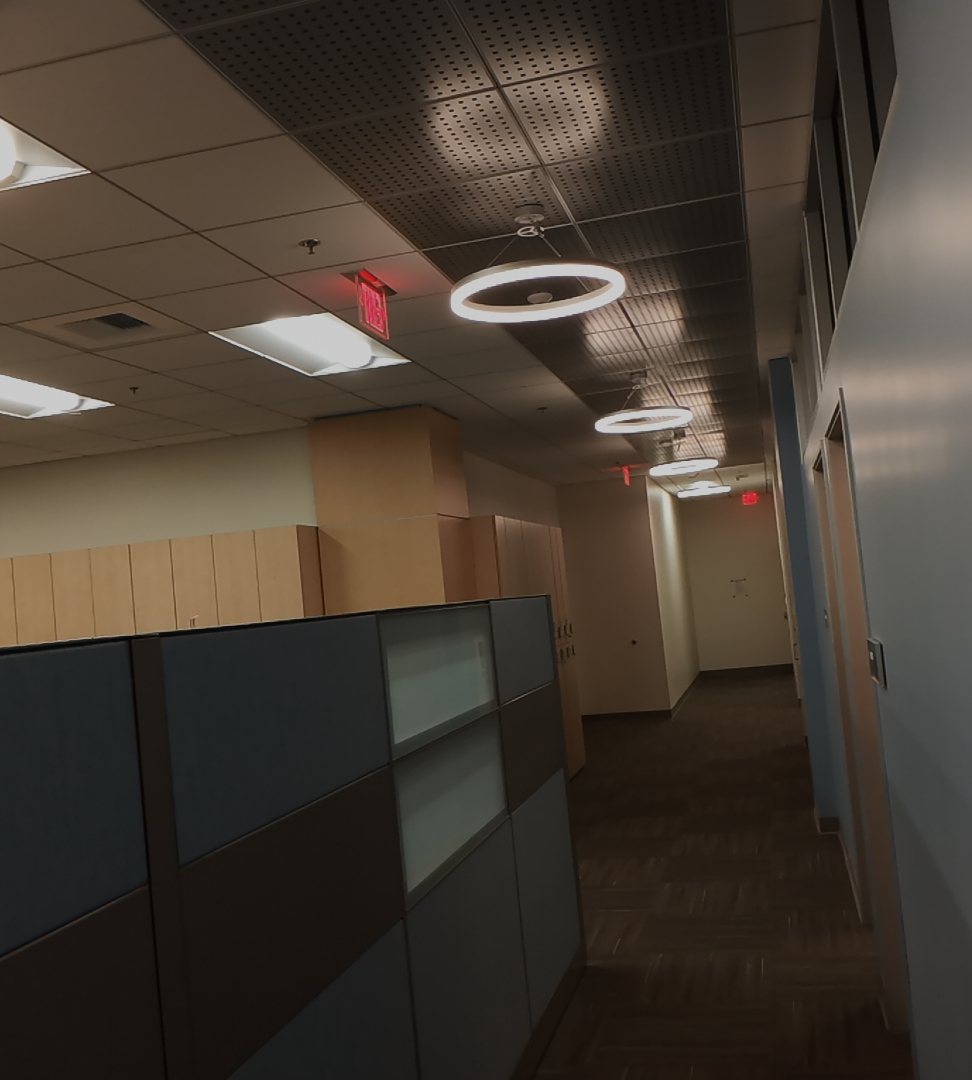emergency_exit: (354, 267, 393, 341), (739, 489, 759, 506)
